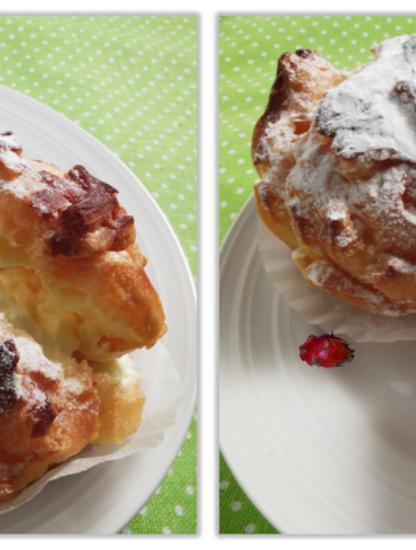Pitahaya: (299, 321, 356, 378)
